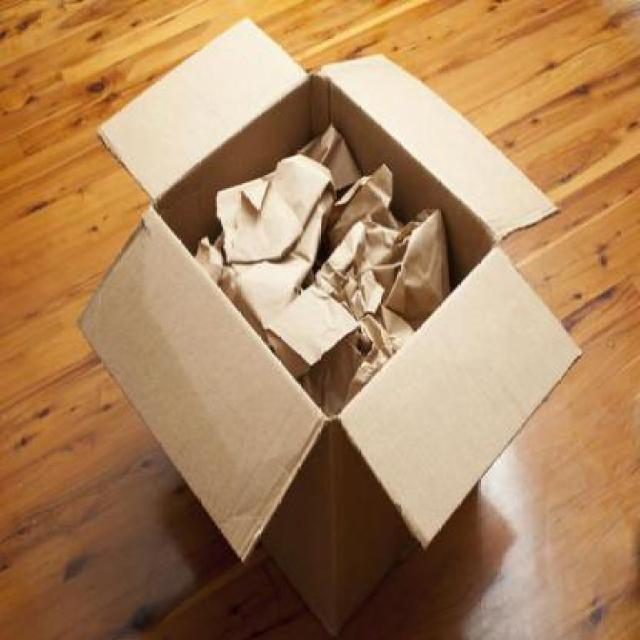box: (92, 16, 583, 640)
